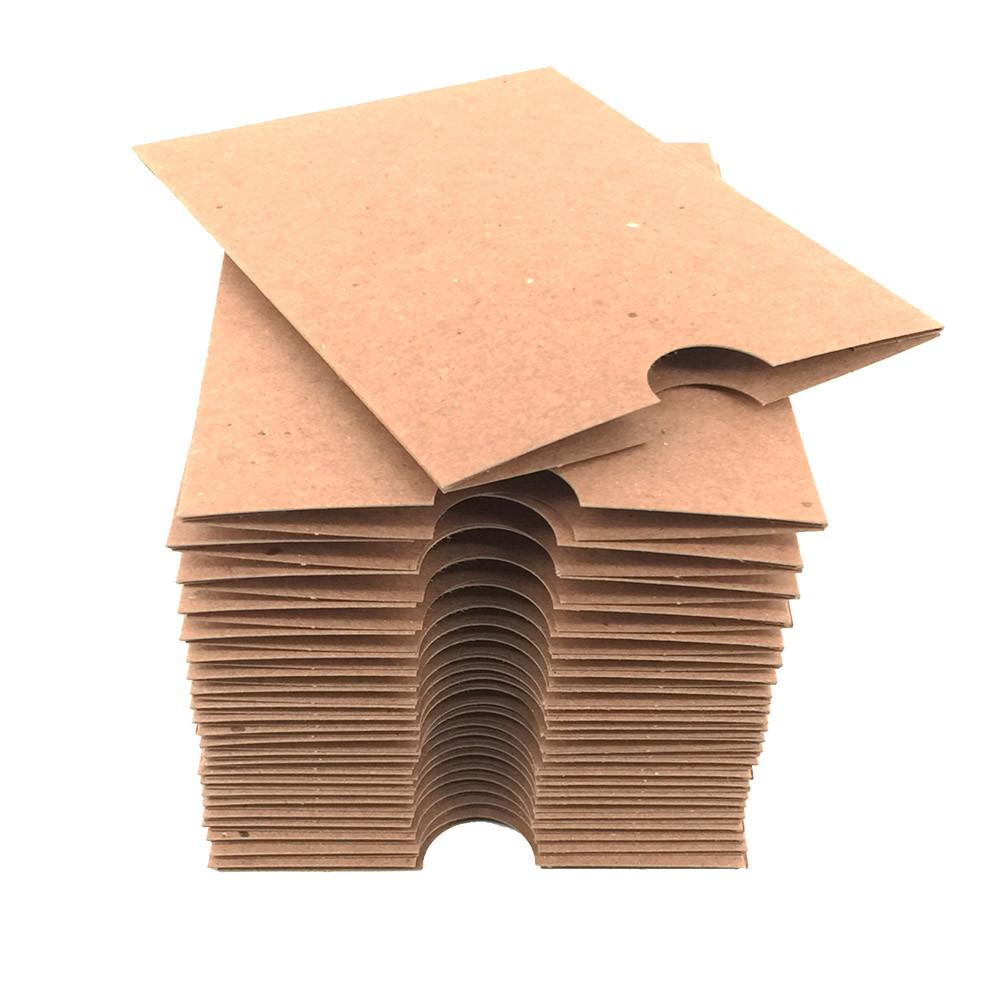Rec_Paper: (82, 27, 948, 902), (111, 61, 942, 494)
